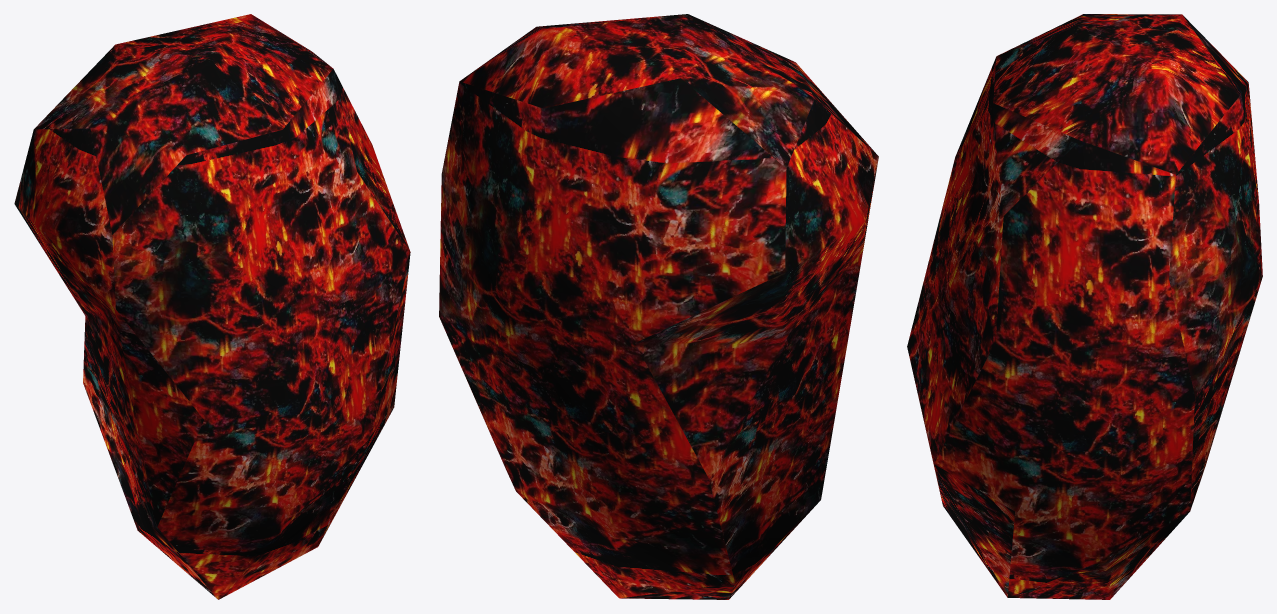
File: ITAT_FIREGOLEMHEART.glb
The picture shows the model from 3 angles, left to right: view 1: azimuth 30°, elevation 25°; view 2: azimuth 150°, elevation 25°; view 3: azimuth 270°, elevation 25°; orthographic projection. The views are drawn at different scales.
Visible parts, largest first — view 1: Mesh; view 2: Mesh; view 3: Mesh.
Part boxes in pixels (x1,y1,x2,y2): Mesh: (14, 14, 410, 599); Mesh: (439, 14, 878, 599); Mesh: (907, 14, 1262, 599).
Size of the model in its own units: 0.2162 by 0.3053 by 0.1735.
1 material, 1 textured.
